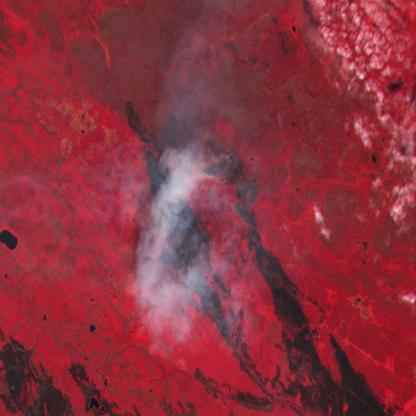fire: (197, 147, 248, 192)
